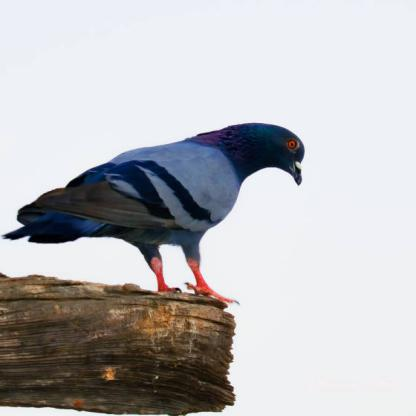Rock Pigeon: (18, 121, 312, 282)
